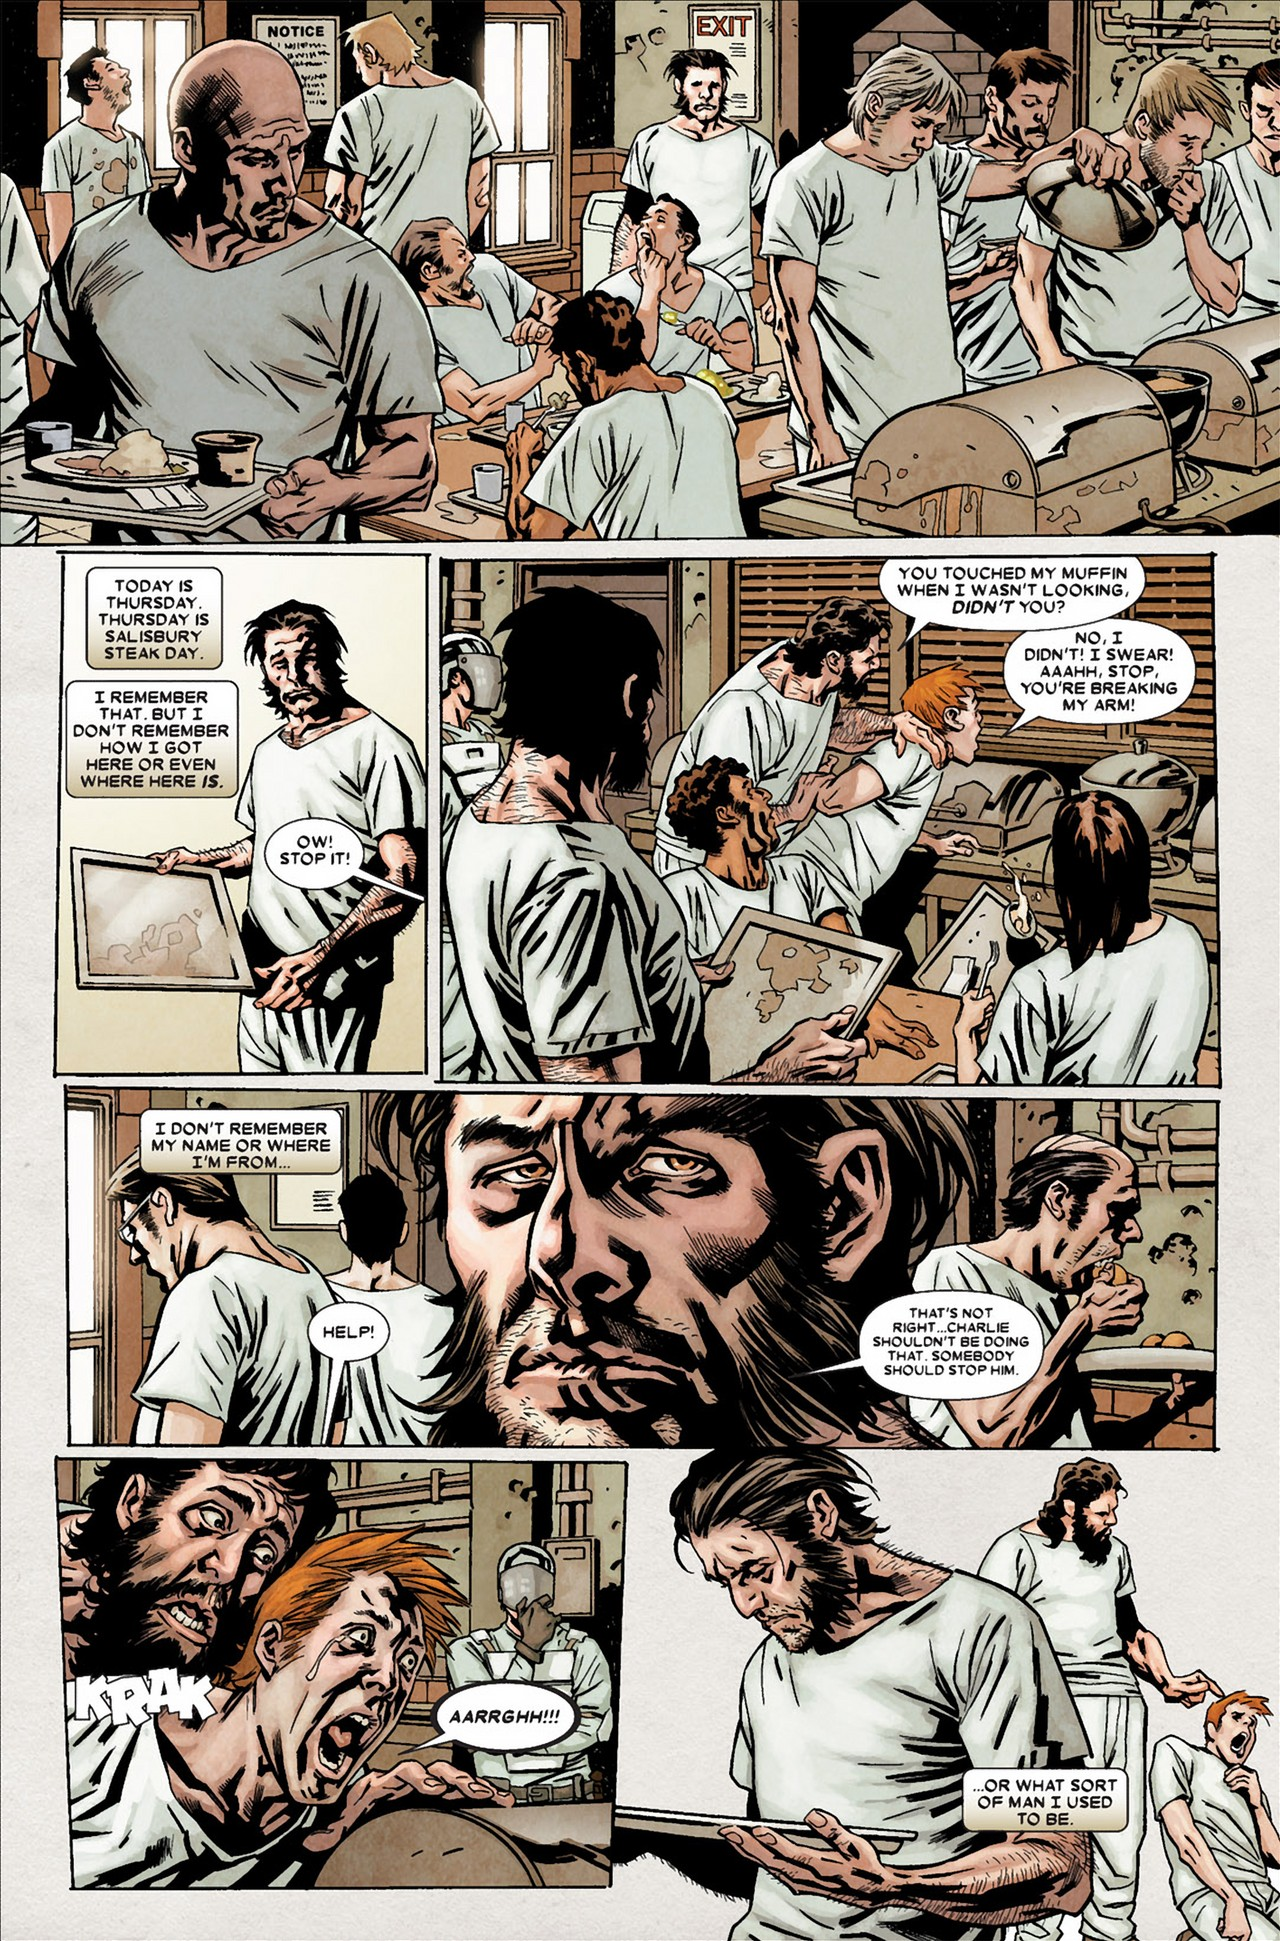Baloon: (833, 1293, 1041, 1405), (66, 681, 241, 803), (883, 551, 1141, 631), (1009, 626, 1200, 726), (84, 567, 227, 670), (141, 1105, 339, 1178), (430, 1681, 577, 1758), (266, 814, 397, 896), (959, 1770, 1127, 1831), (314, 1290, 389, 1387)
Vignetta: (1, 1, 1276, 548), (61, 1084, 1221, 1453), (439, 551, 1224, 1078), (614, 1458, 1277, 1941), (50, 1445, 627, 1892), (61, 548, 424, 1075)
